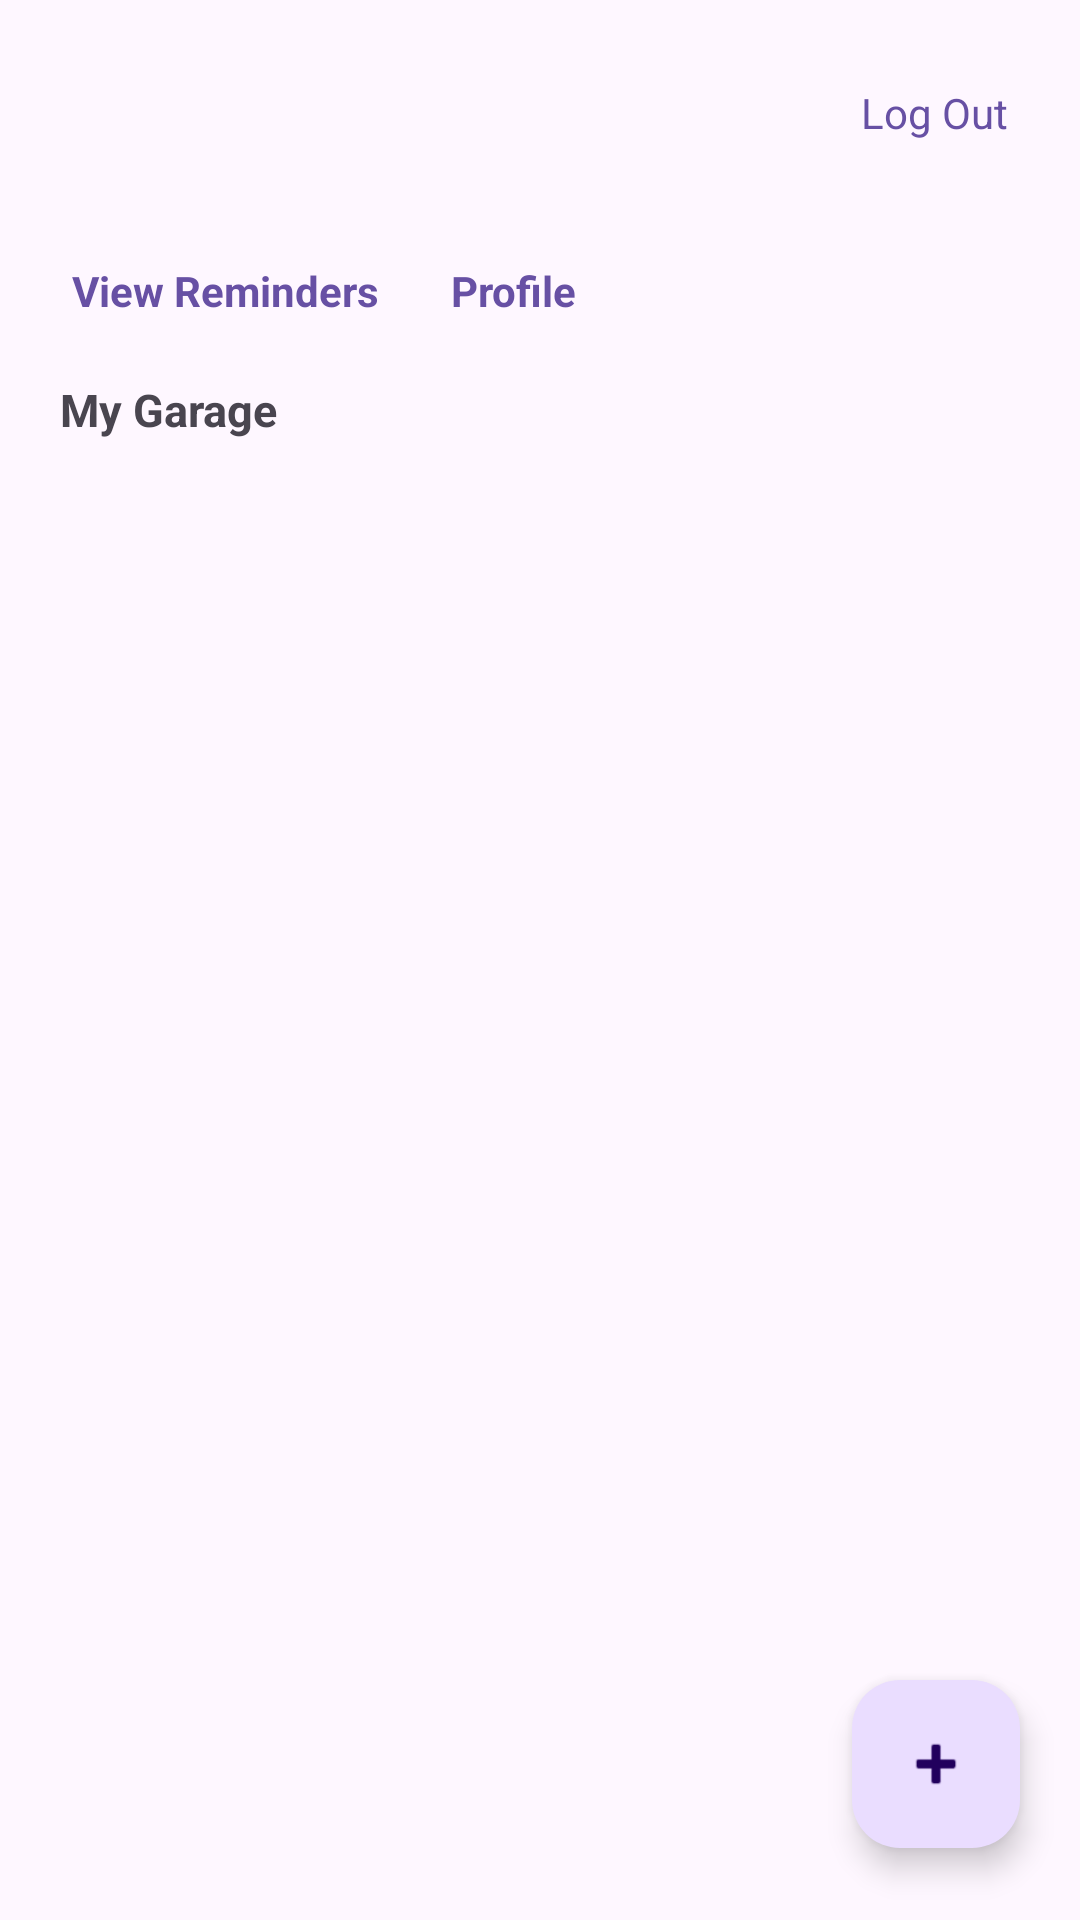

Screen size 1080x1920. Icon name, then its center in pixels as [x,y]:
Add vehicle: [936,1764]
